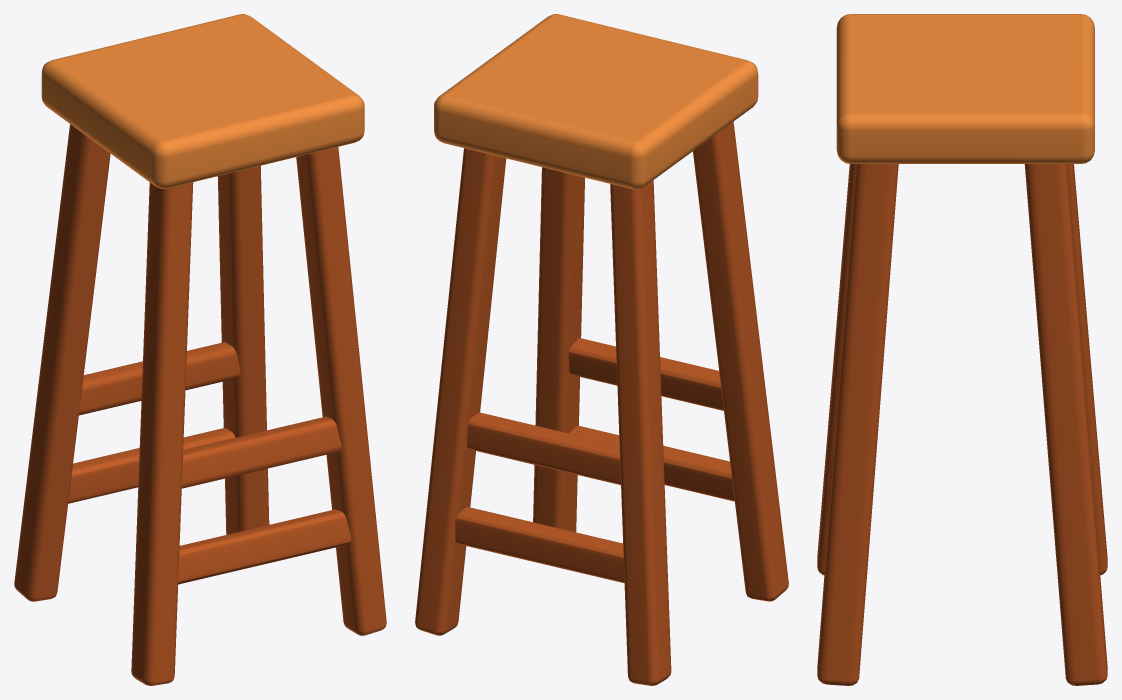
Rendered from Barchair.fbx.
3 views of the same model, side by side, from view 1: azimuth 30°, elevation 25°; view 2: azimuth 150°, elevation 25°; view 3: azimuth 270°, elevation 25° (orthographic). The views are drawn at different scales.
Parts seen in each view (by area): view 1: polySurface13; view 2: polySurface13; view 3: polySurface13.
Part boxes in pixels (x1,y1,x2,y2): polySurface13: (14, 14, 386, 685); polySurface13: (415, 14, 788, 685); polySurface13: (817, 14, 1107, 685).
Size of the model in its own units: 25.95 by 54.57 by 25.4.
